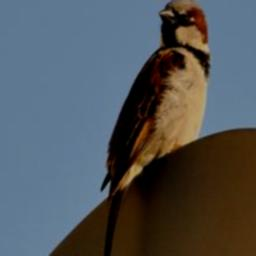Swallow: (101, 0, 213, 256)
